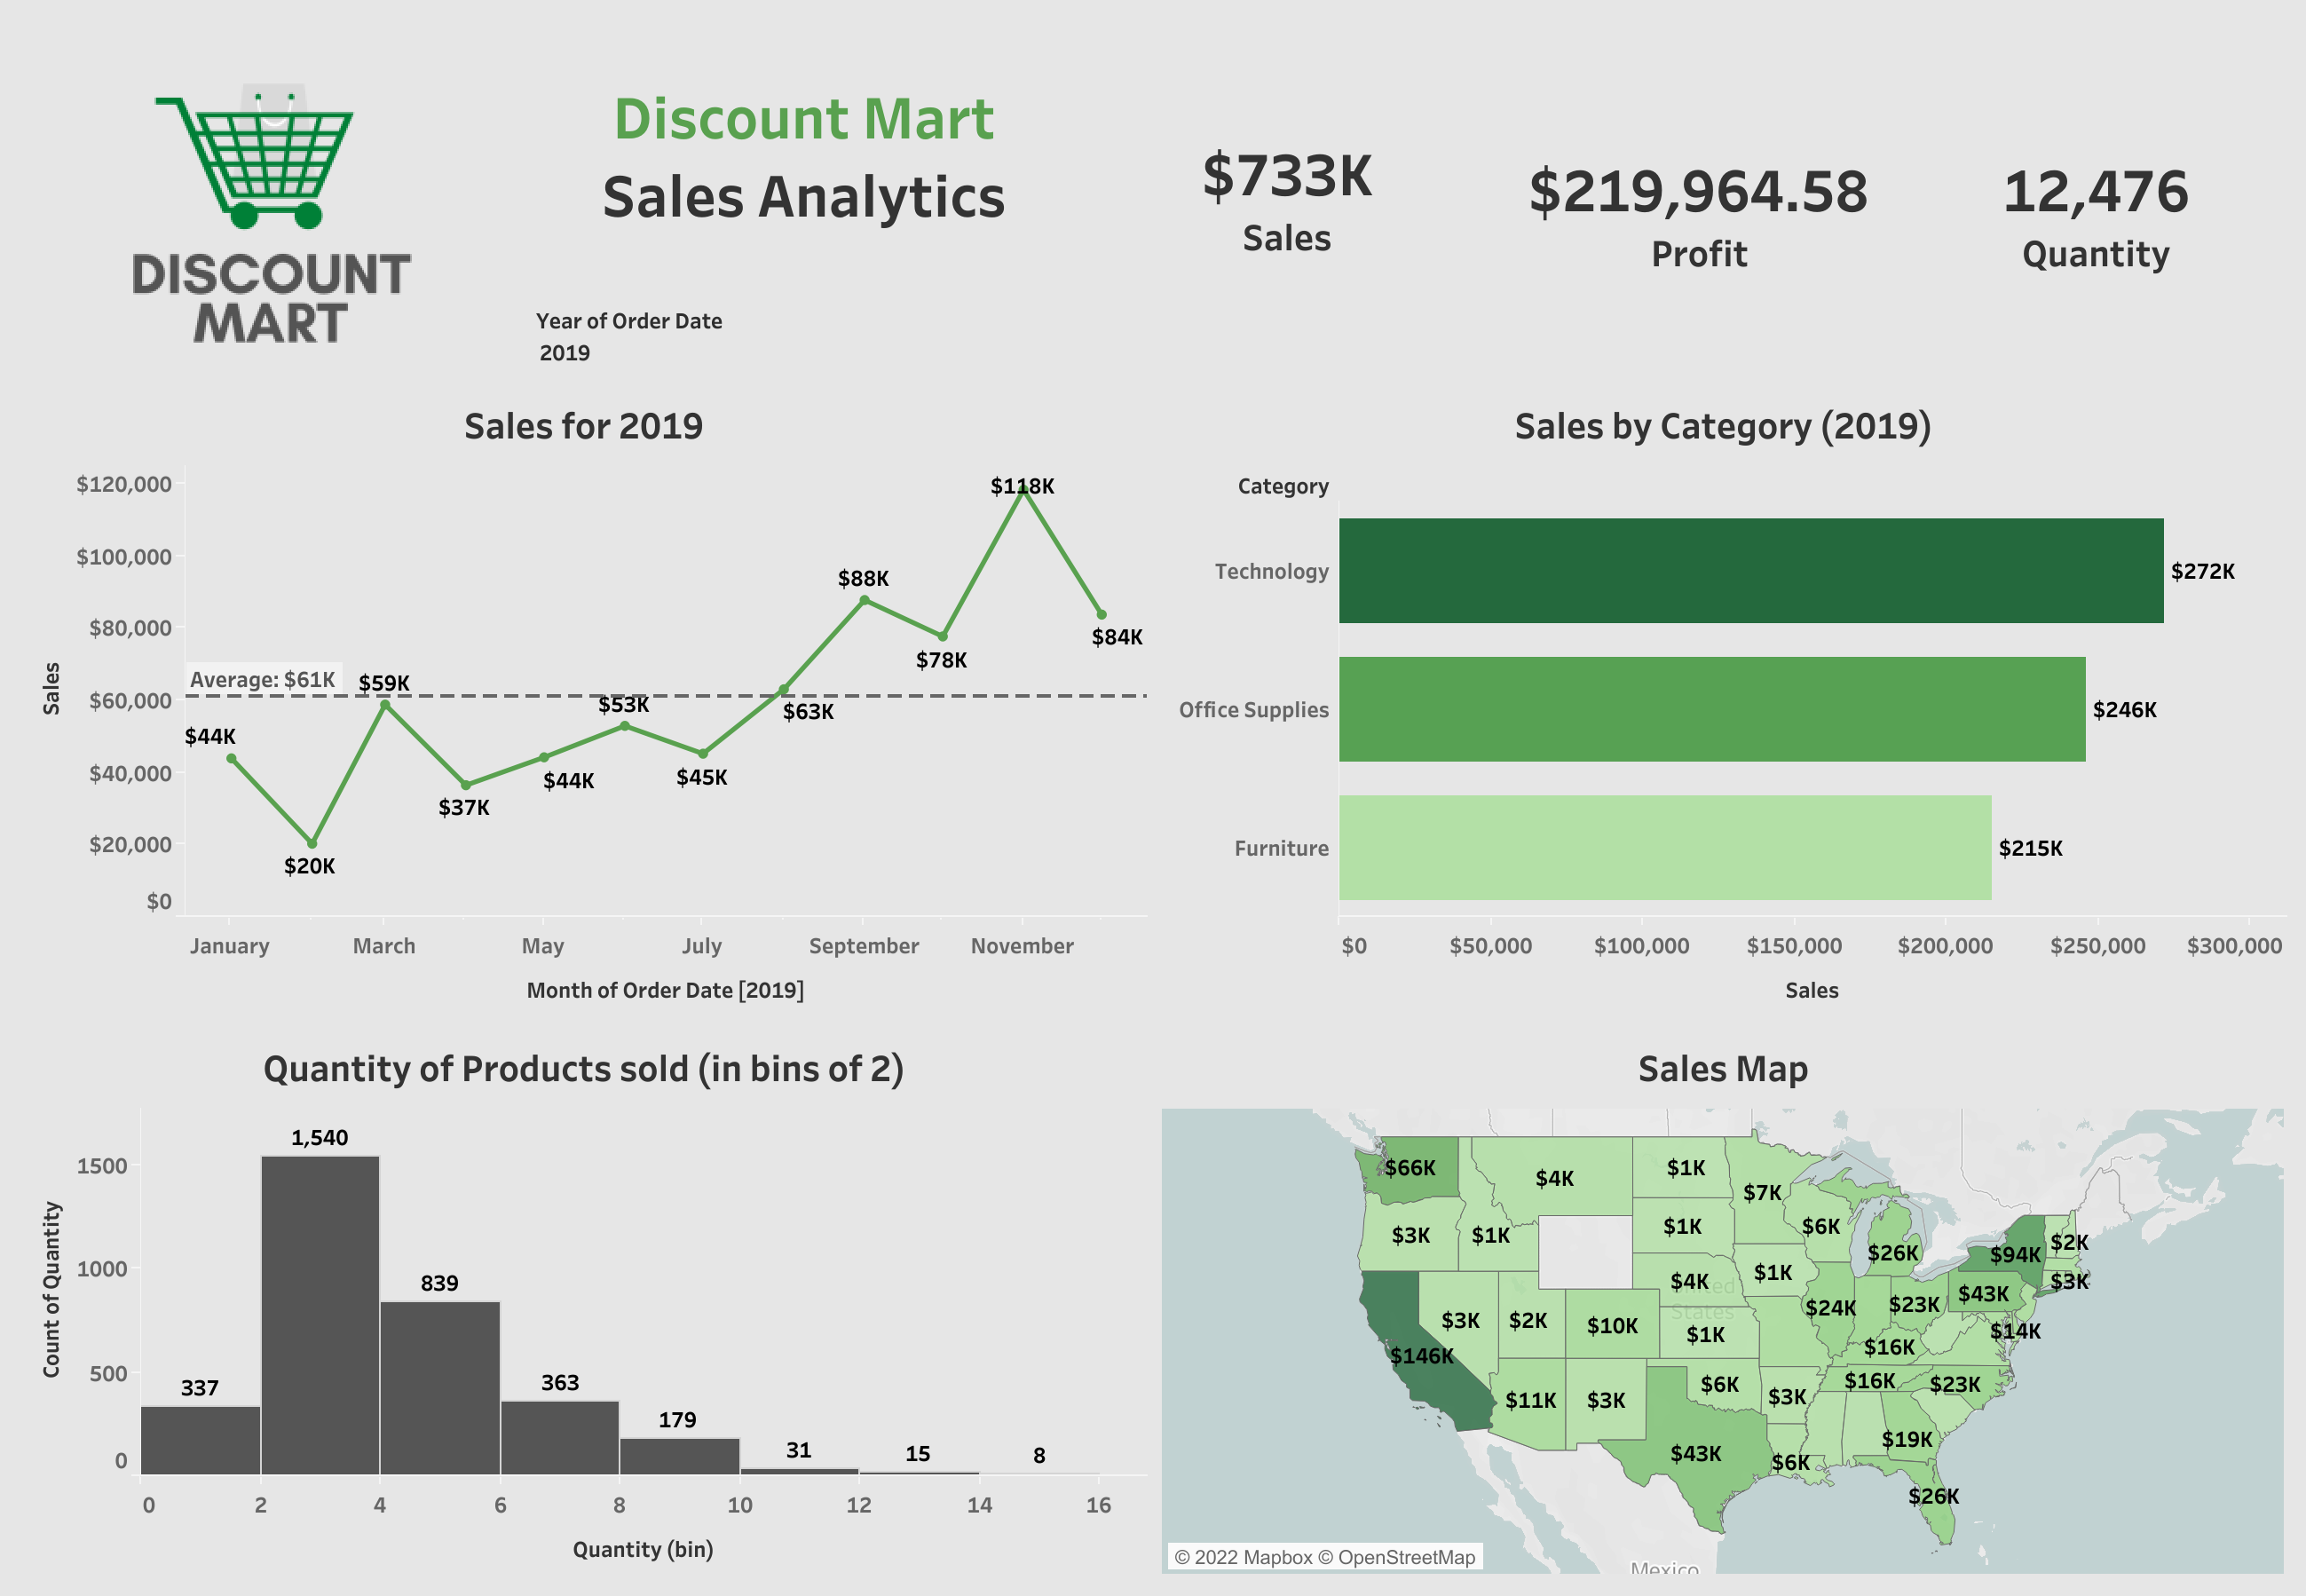

This screenshot's page, from the dashboard's own definition file:
{"tool":"tableau","page":{"name":"Dashboard 1","canvas":[1300,900],"ordinal":0},"visuals":[{"type":"image","param":"Image/Discount+Mart+(1).png","box":[8,8,290,207]},{"type":"text","box":[298,8,310,158]},{"type":"worksheet","title":"Sales Card","mark":"Automatic","box":[608,8,236,207]},{"type":"worksheet","title":"Profit Card","mark":"Automatic","box":[844,8,227,207]},{"type":"worksheet","title":"Quantity Card","mark":"Automatic","box":[1071,8,221,207]},{"type":"filter","title":"Sales by Category","param":"[federated.1vyj8hj14aiqgf1cg7mua0t2keds].[yr:Order Date:ok]","box":[298,166,310,49]},{"type":"worksheet","title":"Yearly Sales","mark":"Automatic","rows":["Sales"],"cols":["Order Date"],"box":[8,215,642,362]},{"type":"worksheet","title":"Sales by Category","mark":"Automatic","rows":["Category"],"cols":["Sales"],"box":[650,215,642,362]},{"type":"worksheet","title":"Products sold per Order","mark":"Automatic","rows":["Quantity"],"cols":["Quantity (bin)"],"box":[8,577,642,315]},{"type":"worksheet","title":"Sales Map","mark":"Automatic","box":[650,577,642,315]}]}

Visuals, with their boxes in screenshot pixels (x1, y1, x2, y2), scaled from the page's 1300x900 canvas onto the 2306x1596 screenshot:
image: BBox(14, 14, 529, 382)
text: BBox(529, 14, 1078, 295)
"Sales Card" worksheet: BBox(1078, 14, 1497, 382)
"Profit Card" worksheet: BBox(1497, 14, 1899, 382)
"Quantity Card" worksheet: BBox(1899, 14, 2292, 382)
"Sales by Category" filter: BBox(529, 295, 1078, 382)
"Yearly Sales" worksheet: BBox(14, 382, 1153, 1023)
"Sales by Category" worksheet: BBox(1153, 382, 2292, 1023)
"Products sold per Order" worksheet: BBox(14, 1023, 1153, 1582)
"Sales Map" worksheet: BBox(1153, 1023, 2292, 1582)
